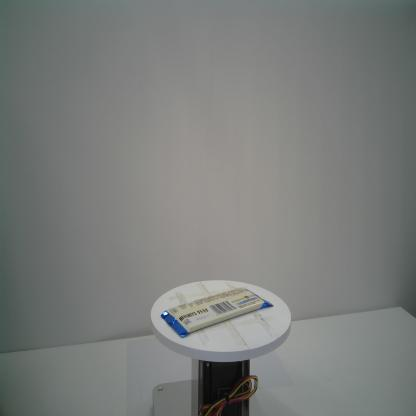Chocolate: (161, 285, 274, 338)
